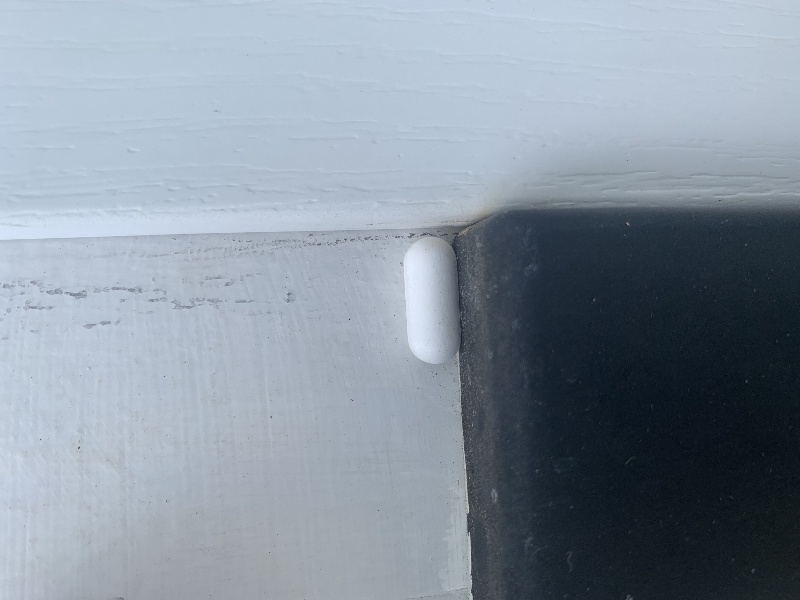Tylenol: (398, 230, 467, 369)
